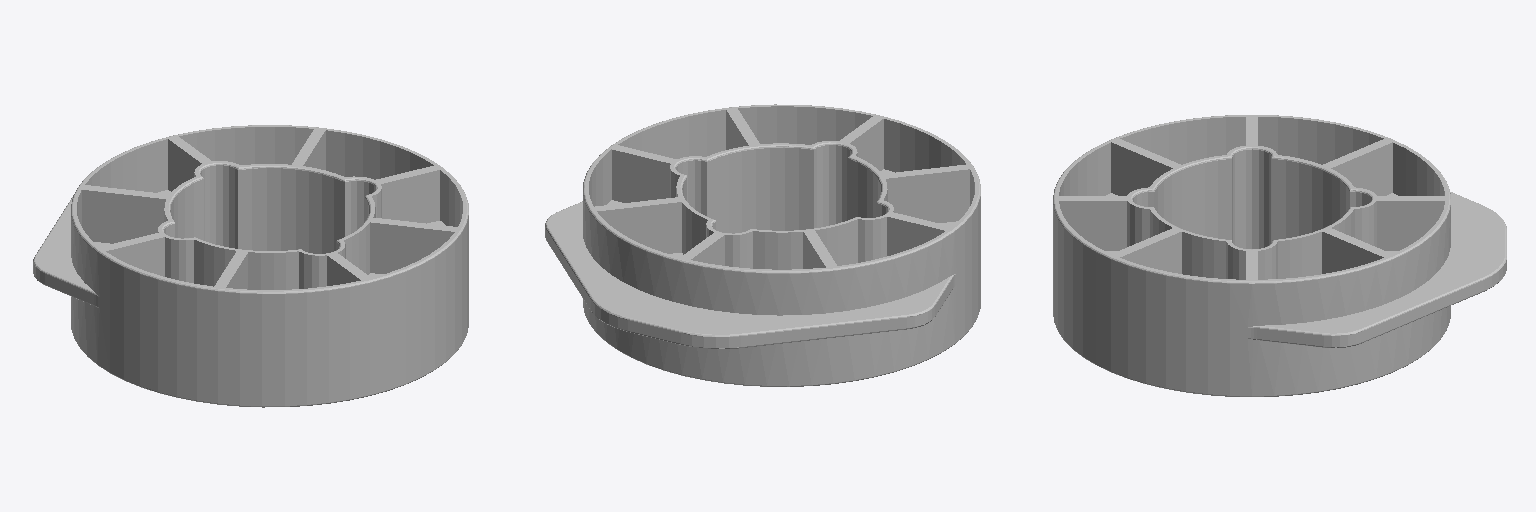
Rendered from Scheibe.obj.
3 renders of one model, left to right at view 1: azimuth 30°, elevation 25°; view 2: azimuth 150°, elevation 25°; view 3: azimuth 270°, elevation 25°, orthographic.
Parts seen in each view (by area): view 1: Volumenkörper1; view 2: Volumenkörper1; view 3: Volumenkörper1.
Boxes of the visible parts, box(x1,y1,x2,y2) form: Volumenkörper1: box(33, 125, 468, 407); Volumenkörper1: box(545, 104, 980, 386); Volumenkörper1: box(1053, 115, 1506, 396).
Size of the model in its own units: 110 by 32 by 114.